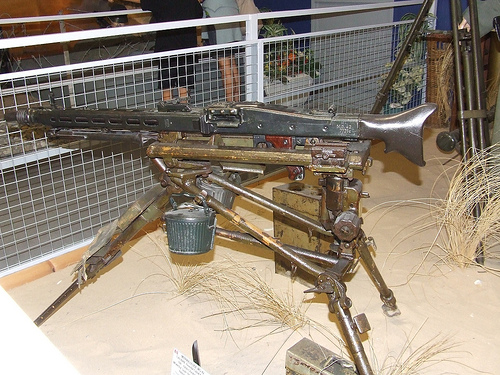rifle: (5, 87, 429, 324)
